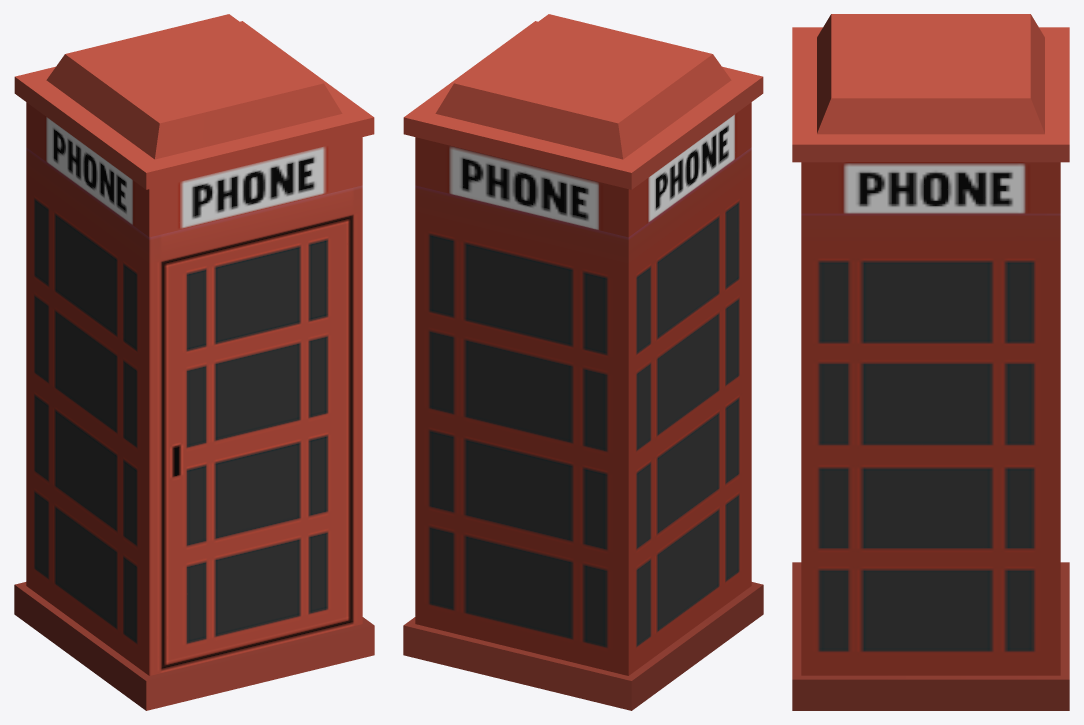
The model's file is SM_PhoneBooth_Uk_01.fbx.
3 views of the same model, side by side, from view 1: azimuth 30°, elevation 25°; view 2: azimuth 150°, elevation 25°; view 3: azimuth 270°, elevation 25° (orthographic). The views are drawn at different scales.
Parts seen in each view (by area): view 1: SM_PhoneBooth_Uk_01; view 2: SM_PhoneBooth_Uk_01; view 3: SM_PhoneBooth_Uk_01.
Boxes of the visible parts, left/top/right/bottom form: SM_PhoneBooth_Uk_01: left=14, top=14, right=374, bottom=710; SM_PhoneBooth_Uk_01: left=403, top=14, right=763, bottom=710; SM_PhoneBooth_Uk_01: left=792, top=14, right=1069, bottom=710.
Bounding box in the file's own units: 1.99 × 4.72 × 1.99.
